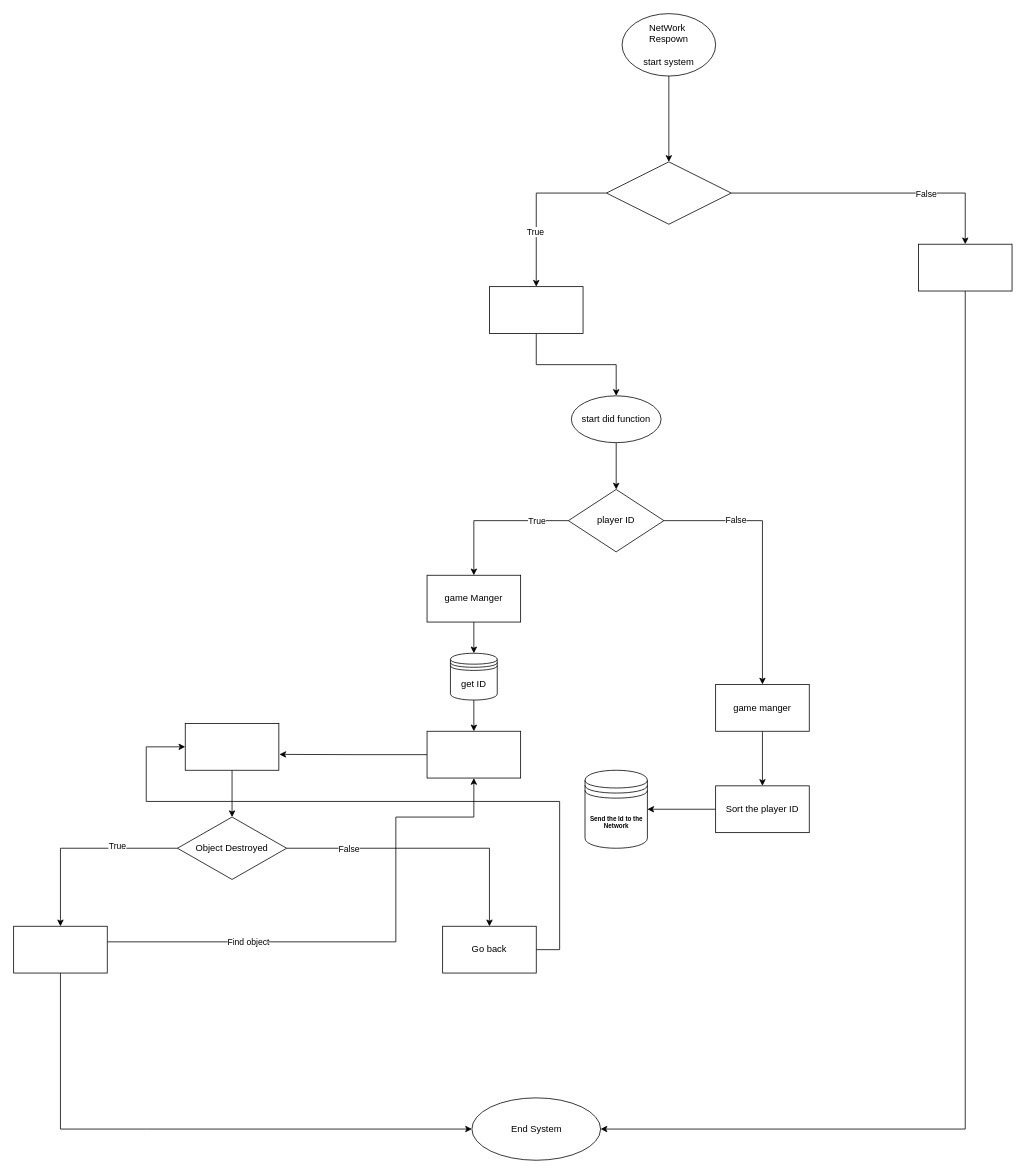
Image size: 1026x1174. Some labels were removed from this diagram. The shapes that lost their labels are listed below. From the top down, each one's centre as x and y in pixels, then its label:
At [668,192]: "player HP <= 0".
At [965,267]: "Take Damge".
At [536,309]: "import did Function".
At [231,746]: "Destroy Same object".
At [473,754]: "find object by ID".
At [60,949]: "Create Object in spowner position".
